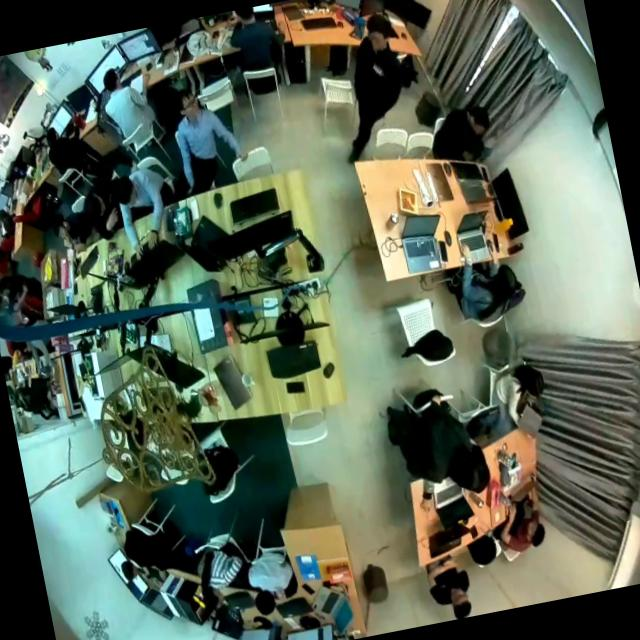employee_tag: (372, 63, 385, 78)
